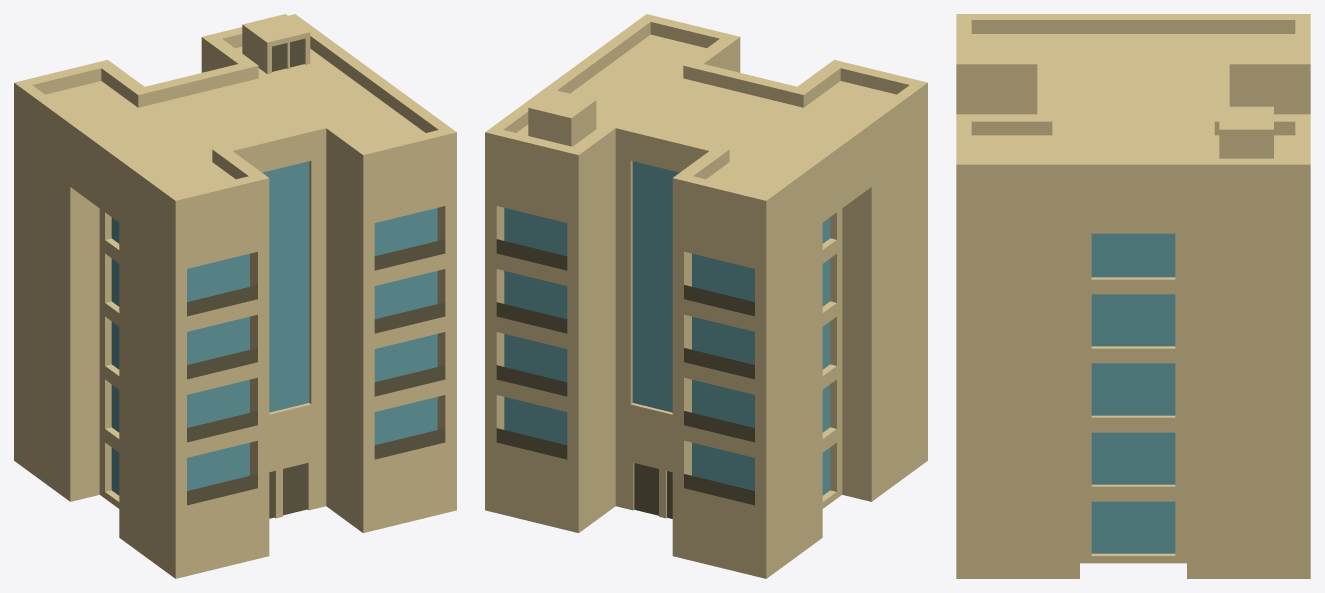
The model's file is Predio.fbx.
3 renders of one model, left to right at view 1: azimuth 30°, elevation 25°; view 2: azimuth 150°, elevation 25°; view 3: azimuth 270°, elevation 25°, orthographic. The views are drawn at different scales.
Parts seen in each view (by area): view 1: Cube; view 2: Cube; view 3: Cube.
Boxes of the visible parts, x1,y1,x2,y2 form: Cube: (14, 14, 456, 578); Cube: (485, 14, 927, 578); Cube: (956, 14, 1310, 578).
Bounding box in the file's own units: 316 × 427 × 315.
